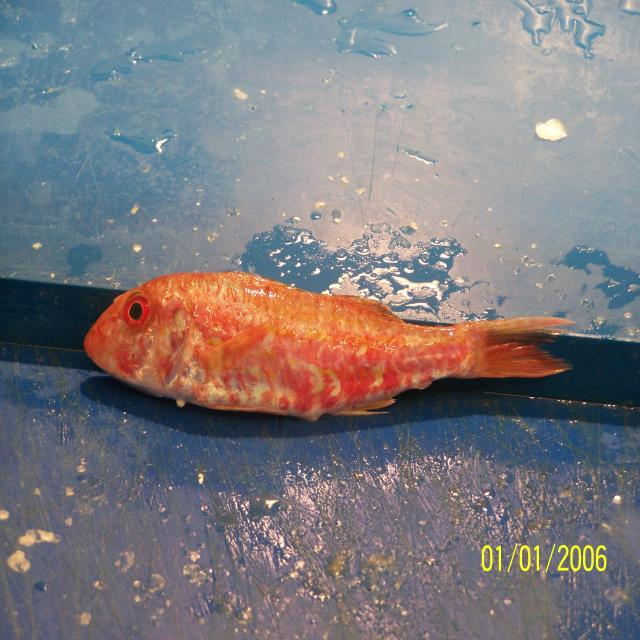Red-Mullet-kefal-: (82, 272, 571, 423)
